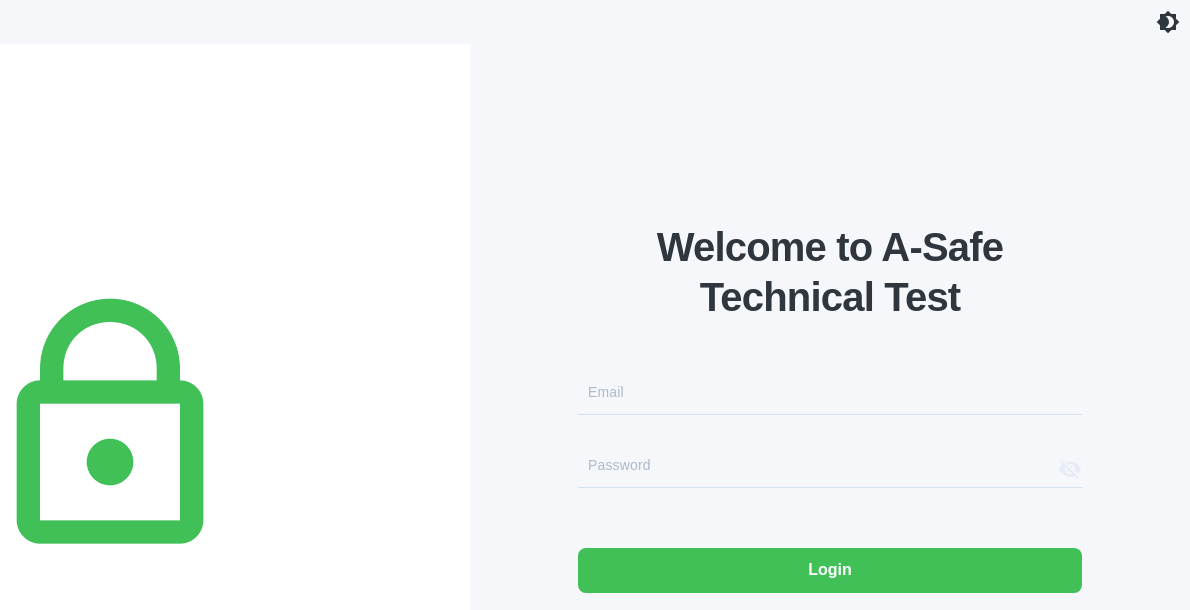
SignIn Page › Displays validation error for invalid email
Step 1. Type "invalid-email" into the field labelled "Email" → (830, 397), box x1=578 y1=378 x2=1082 y2=415
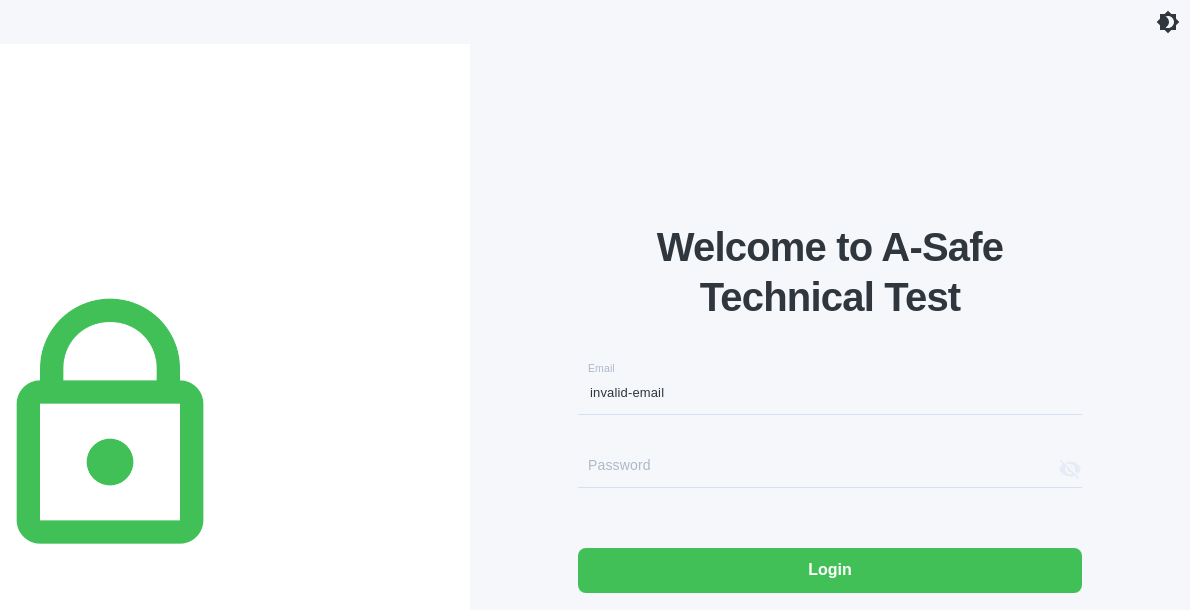
Step 2. Click the button "Login" → (830, 570), box x1=578 y1=548 x2=1082 y2=593
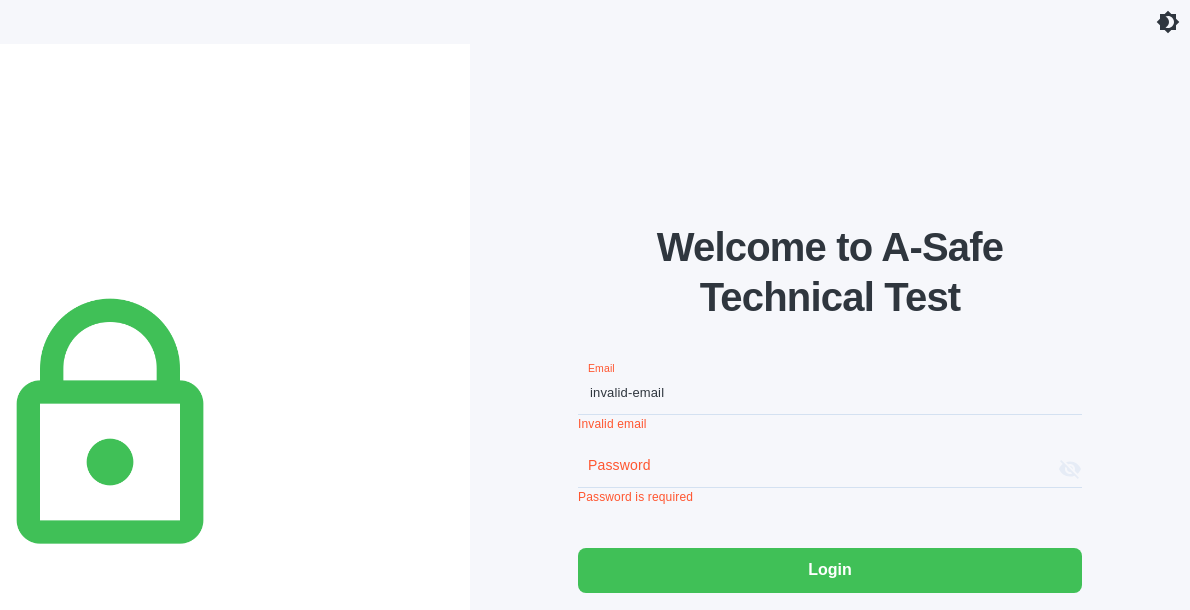
Expected: the text "Invalid email" is shown, x1=578 y1=415 x2=647 y2=433
